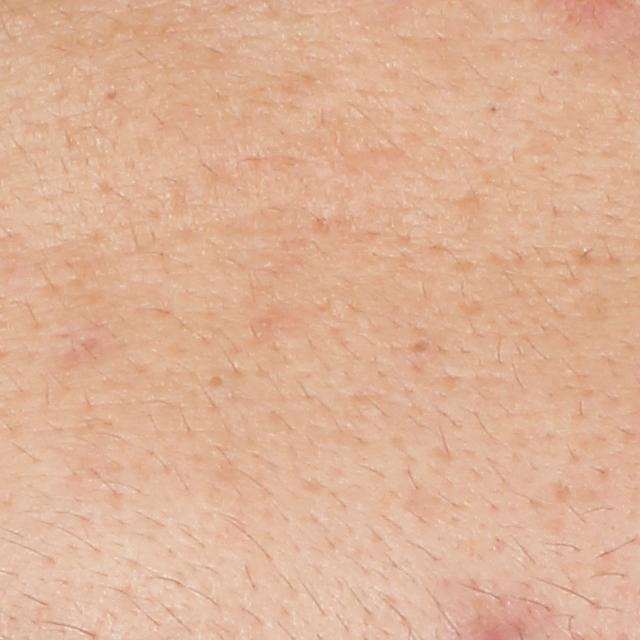comedo: (411, 335, 438, 360), (482, 100, 506, 120), (206, 371, 227, 392)
